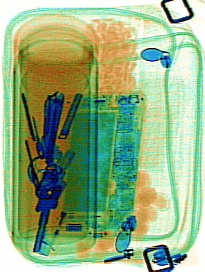lighter: (32, 180, 80, 258)
